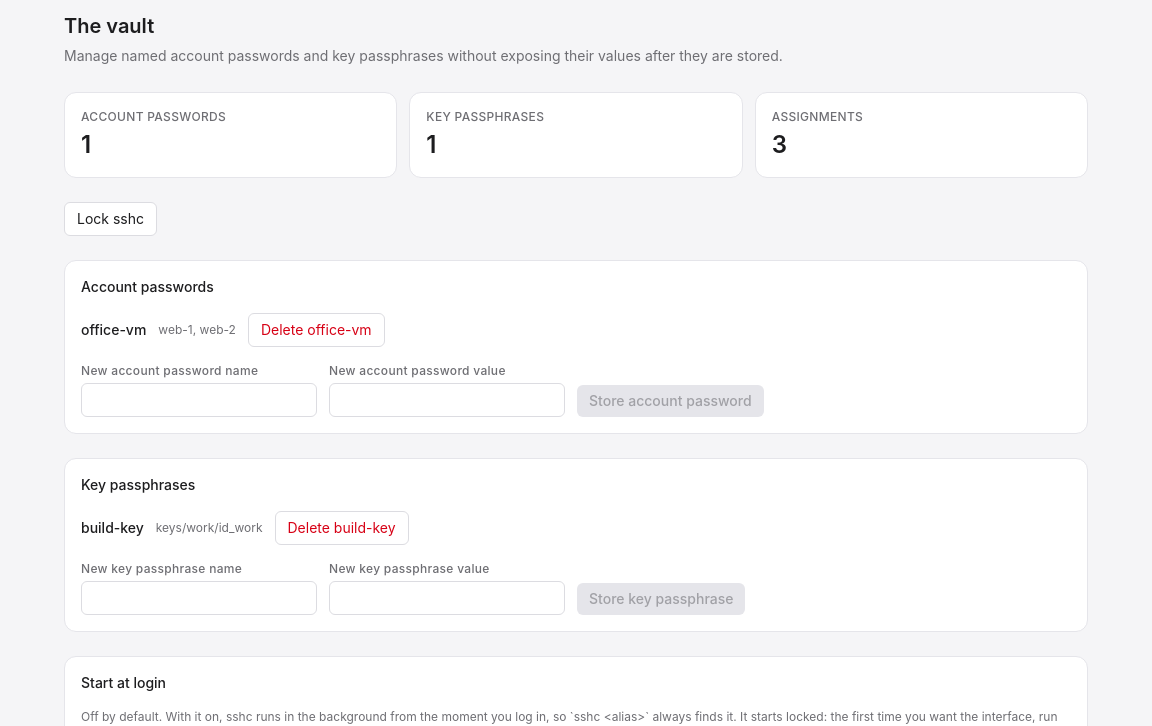
Scenario: SecretsPanel › says what still uses a credential the server refused to delete
This screenshot has width=1152, height=726.
Click the button "Delete office-vm".
click(316, 330)  # box left=248, top=313, right=385, bottom=347
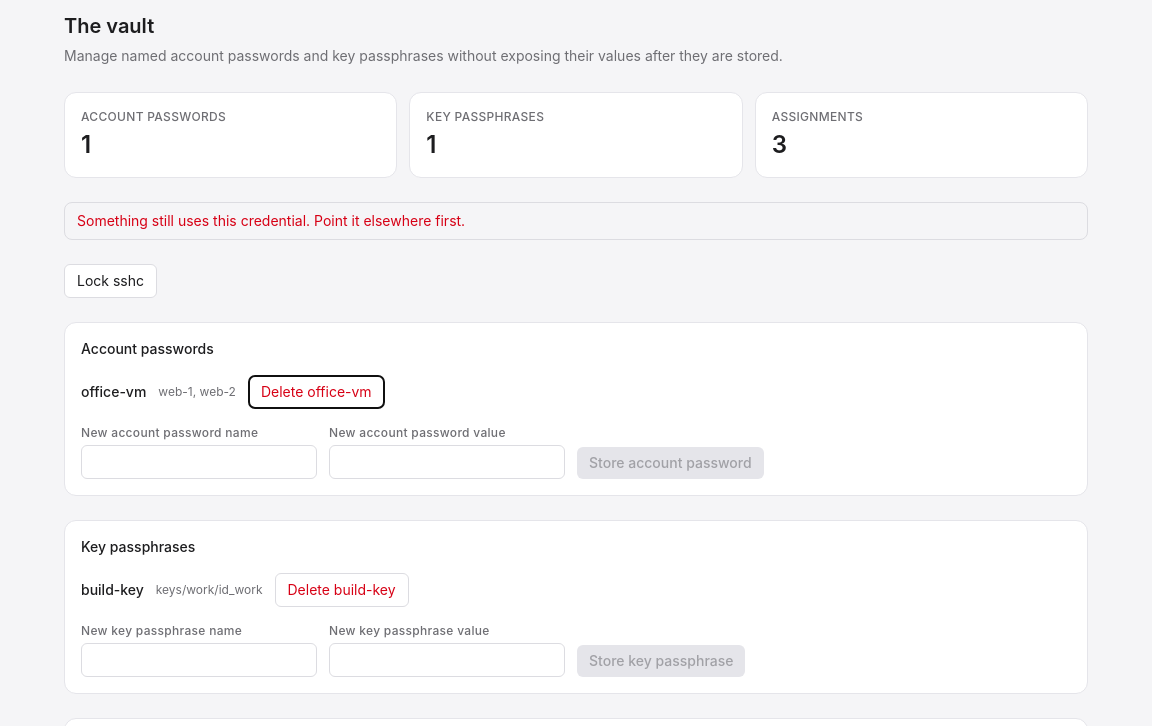
Result: the message shows "still uses" at left=77, top=212, right=465, bottom=229
